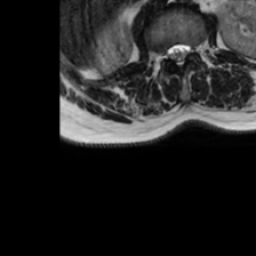CCS_normal: (175, 37, 182, 74)
LFS_normal: (190, 37, 199, 62)
LLS_normal: (182, 37, 190, 65)
RFS_normal: (158, 42, 167, 69)
RLS_normal: (167, 39, 175, 66)
